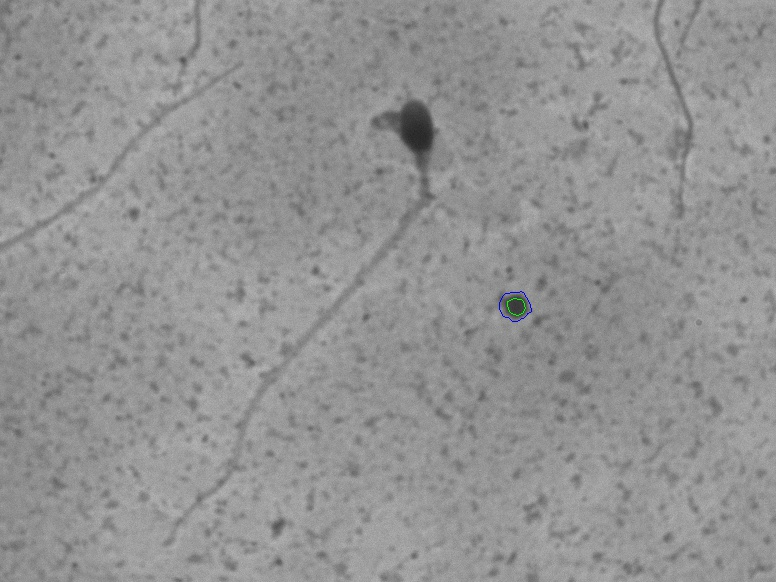Normal: (148, 83, 449, 556)
